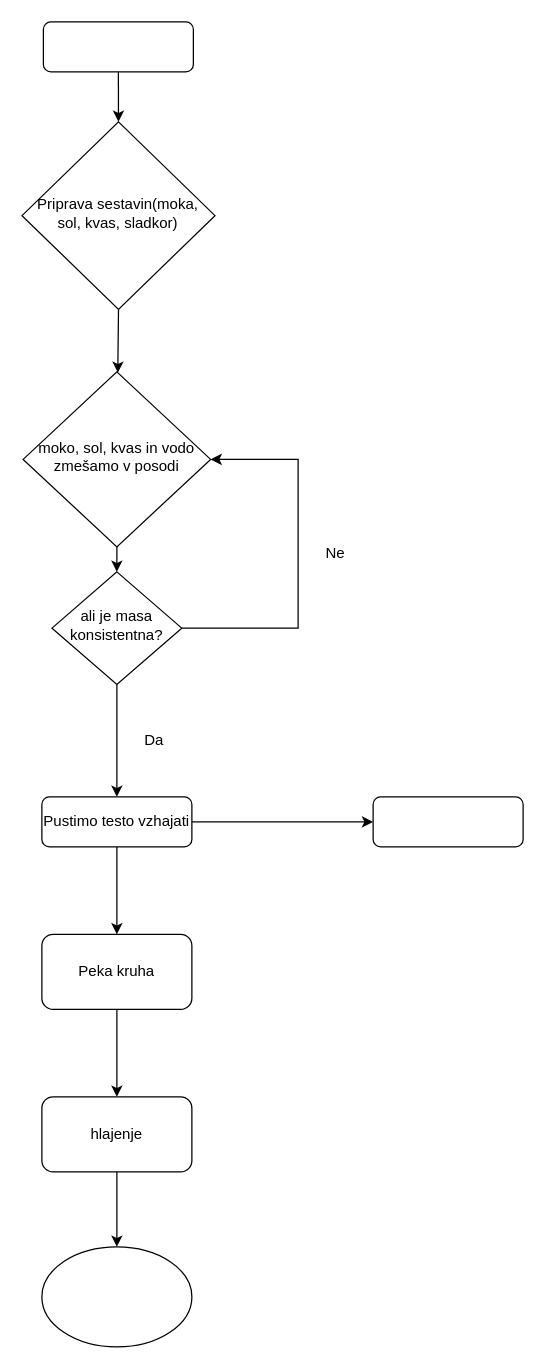
This 545x1369 diagram has some shape labels left out. Each missing label, with the centre of its shape:
Peka kruha končana: point (116, 1296)
Začetek peke: point (117, 46)
Čiščenje: point (447, 821)
